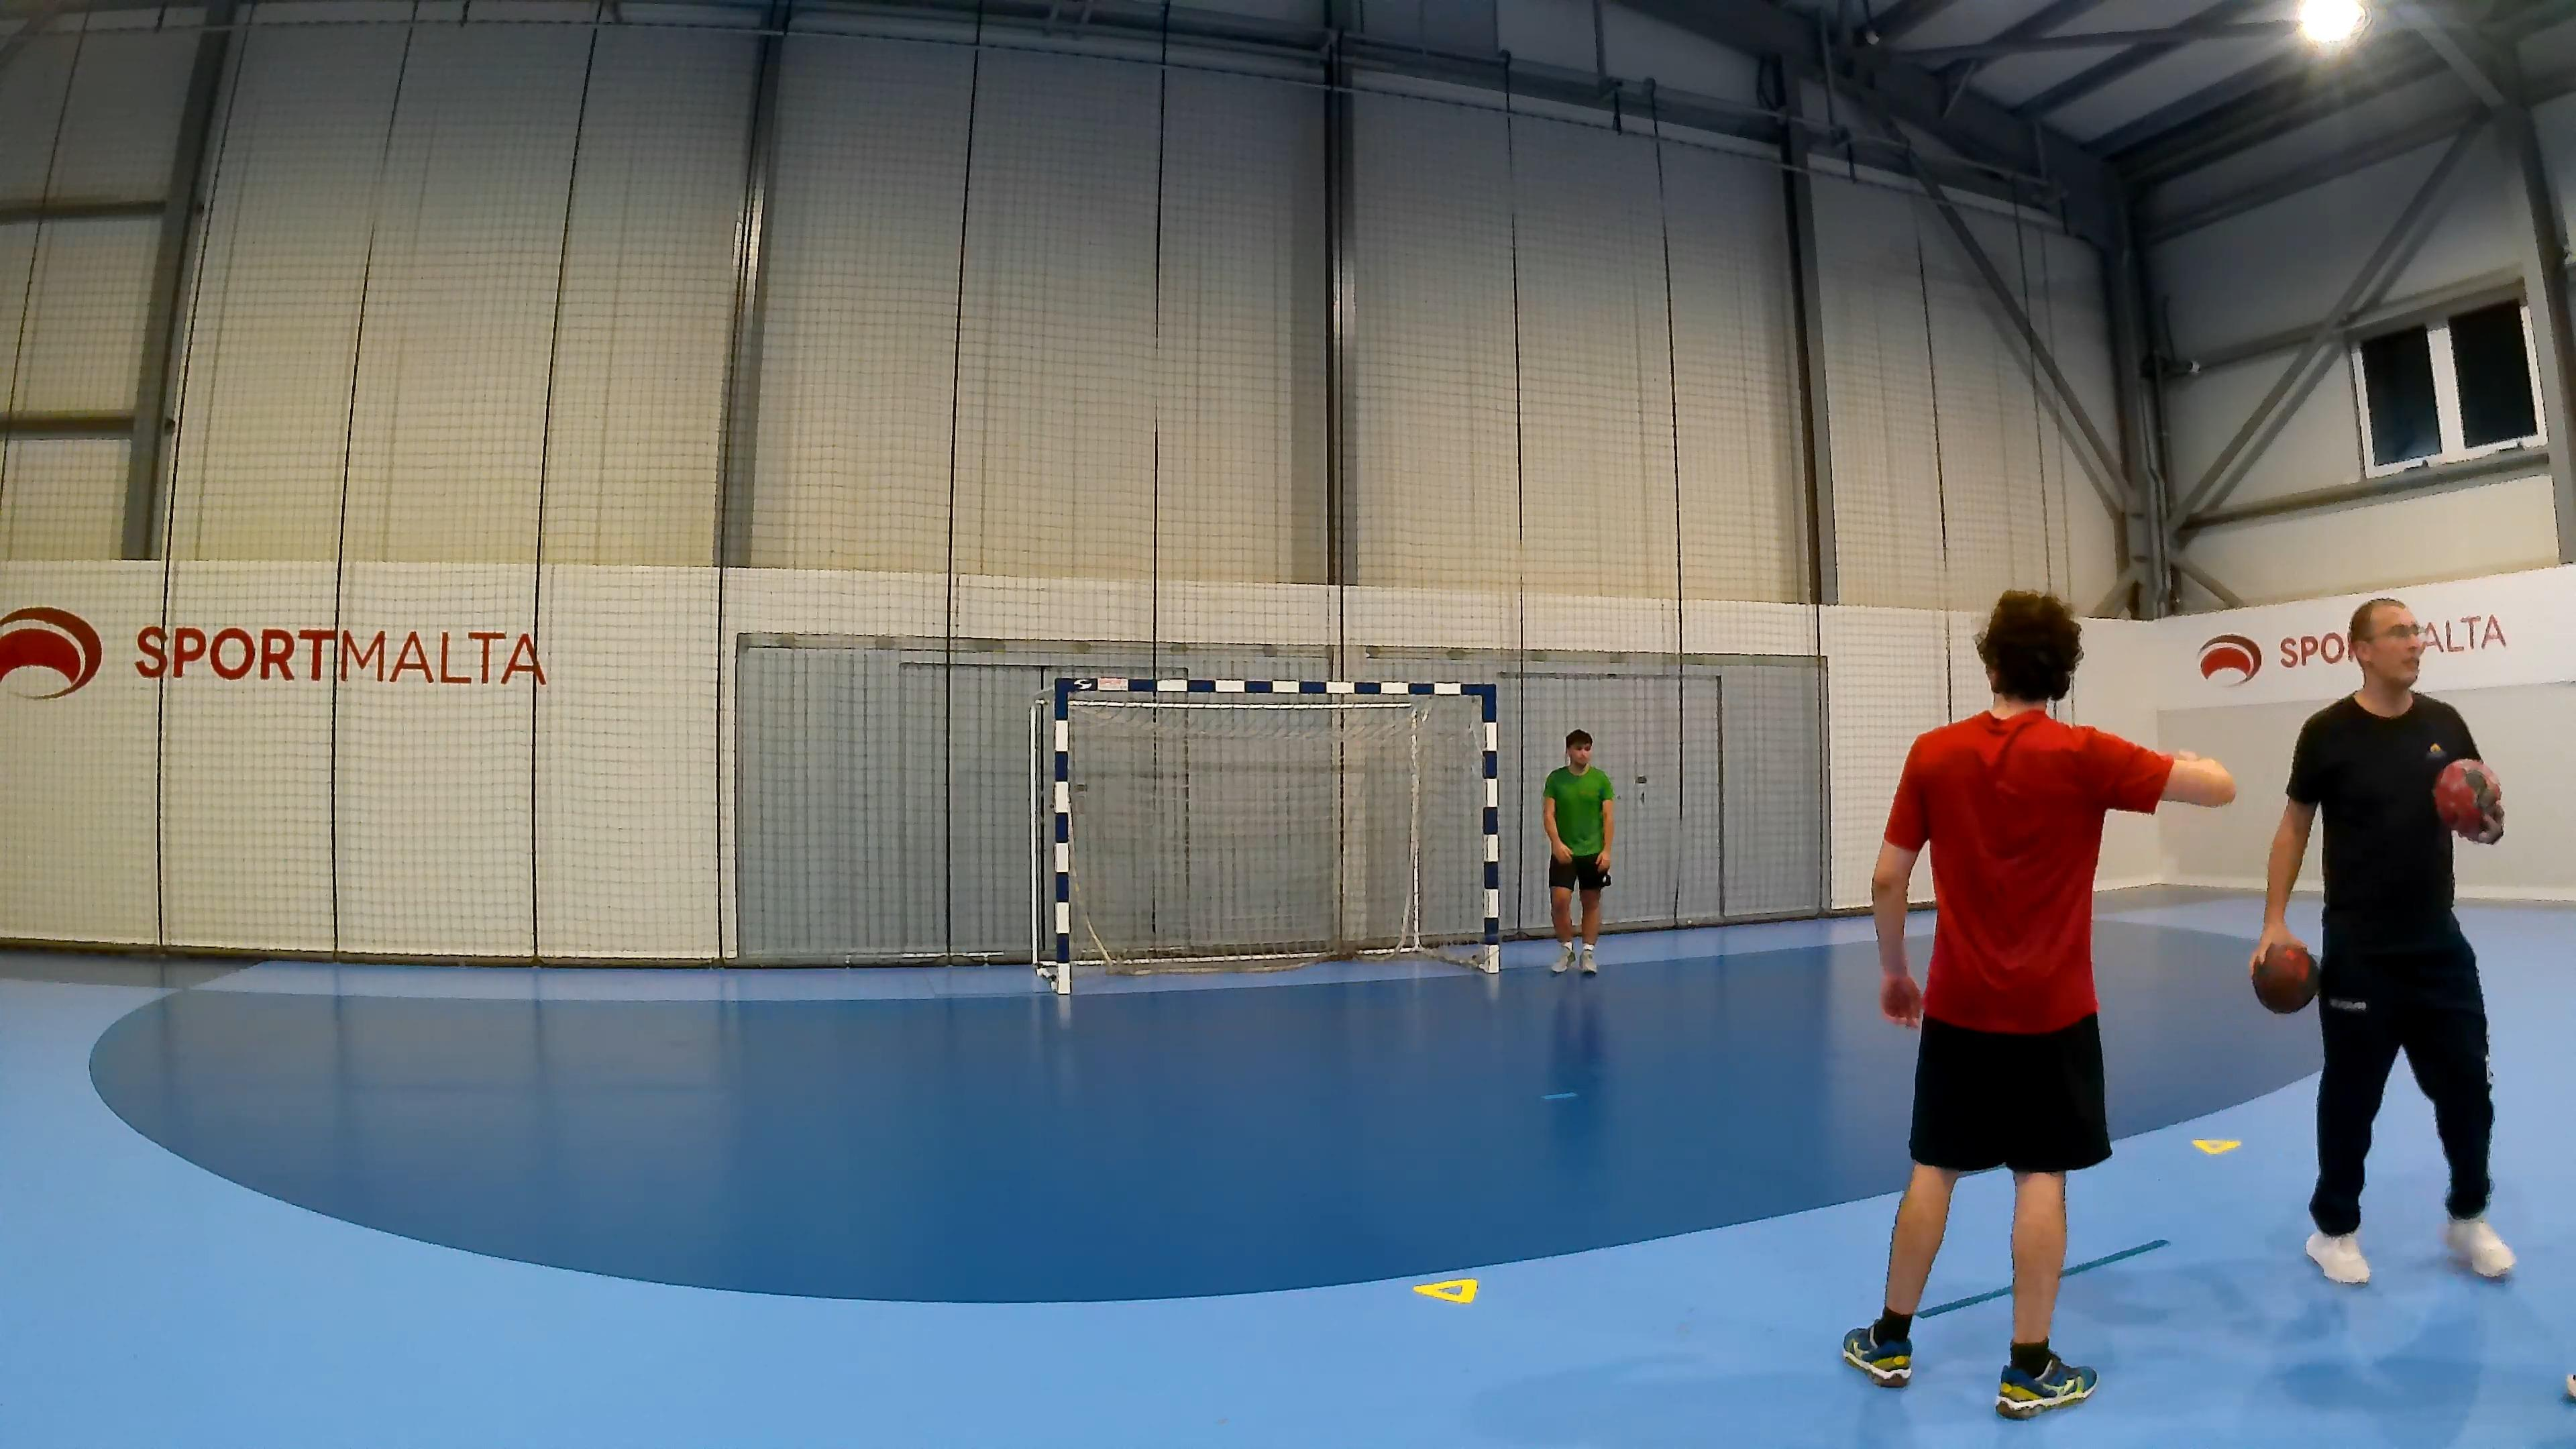handball: (2431, 757, 2498, 840), (2249, 939, 2318, 1014)
